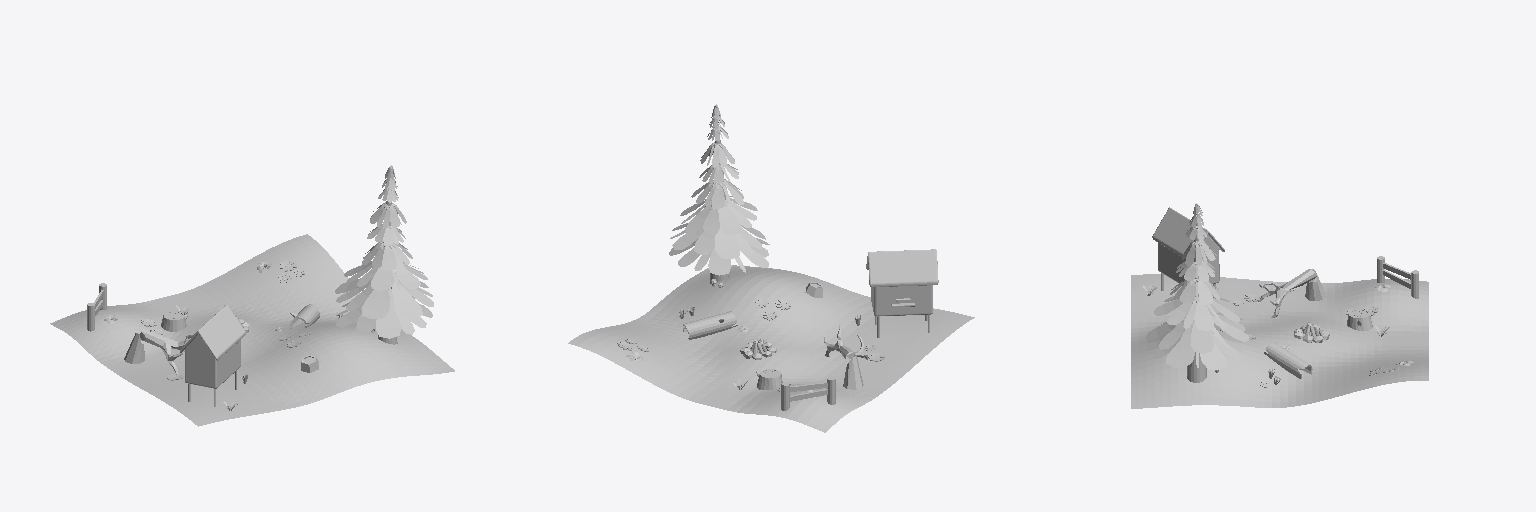
Rendered from decor.obj.
3 renders of one model, left to right at view 1: azimuth 30°, elevation 25°; view 2: azimuth 150°, elevation 25°; view 3: azimuth 270°, elevation 25°, orthographic.
Parts seen in each view (by area): view 1: grass, hut, Plane.001, Plane.018, Plane.002, Tree.023, Plane.003, Plane.005; view 2: grass, hut, Plane.001, Plane.002, Plane.018, Tree.023, Fence_2, Circle.005, Plane.003; view 3: grass, hut, Plane.001, Plane.018, Plane.002, Tree.023, Plane.003, Circle.005, Fence_2, Plane.005, Plane.004.
Boxes of the visible parts, x1=… form: grass: x1=50, y1=234, x2=454, y2=426; hut: x1=180, y1=305, x2=245, y2=406; Plane.001: x1=335, y1=273, x2=433, y2=318; Plane.018: x1=336, y1=296, x2=432, y2=338; Plane.002: x1=344, y1=261, x2=427, y2=290; Tree.023: x1=124, y1=329, x2=192, y2=374; Plane.003: x1=362, y1=241, x2=412, y2=270; Plane.005: x1=370, y1=202, x2=406, y2=227; grass: x1=568, y1=265, x2=974, y2=432; hut: x1=866, y1=249, x2=938, y2=337; Plane.001: x1=670, y1=221, x2=765, y2=259; Plane.002: x1=680, y1=196, x2=757, y2=234; Plane.018: x1=669, y1=238, x2=769, y2=275; Tree.023: x1=824, y1=325, x2=867, y2=389; Fence_2: x1=781, y1=377, x2=835, y2=410; Circle.005: x1=683, y1=311, x2=737, y2=339; Plane.003: x1=691, y1=179, x2=743, y2=208; grass: x1=1131, y1=274, x2=1428, y2=408; hut: x1=1152, y1=207, x2=1224, y2=298; Plane.001: x1=1146, y1=311, x2=1248, y2=353; Plane.018: x1=1145, y1=330, x2=1242, y2=369; Plane.002: x1=1154, y1=295, x2=1239, y2=331; Tree.023: x1=1258, y1=269, x2=1326, y2=317; Plane.003: x1=1170, y1=279, x2=1220, y2=304; Circle.005: x1=1264, y1=343, x2=1312, y2=378; Fence_2: x1=1377, y1=256, x2=1418, y2=298; Plane.005: x1=1182, y1=240, x2=1216, y2=265; Plane.004: x1=1176, y1=259, x2=1214, y2=281.
Bounding box in the file's own units: 2.06 × 1.46 × 2.